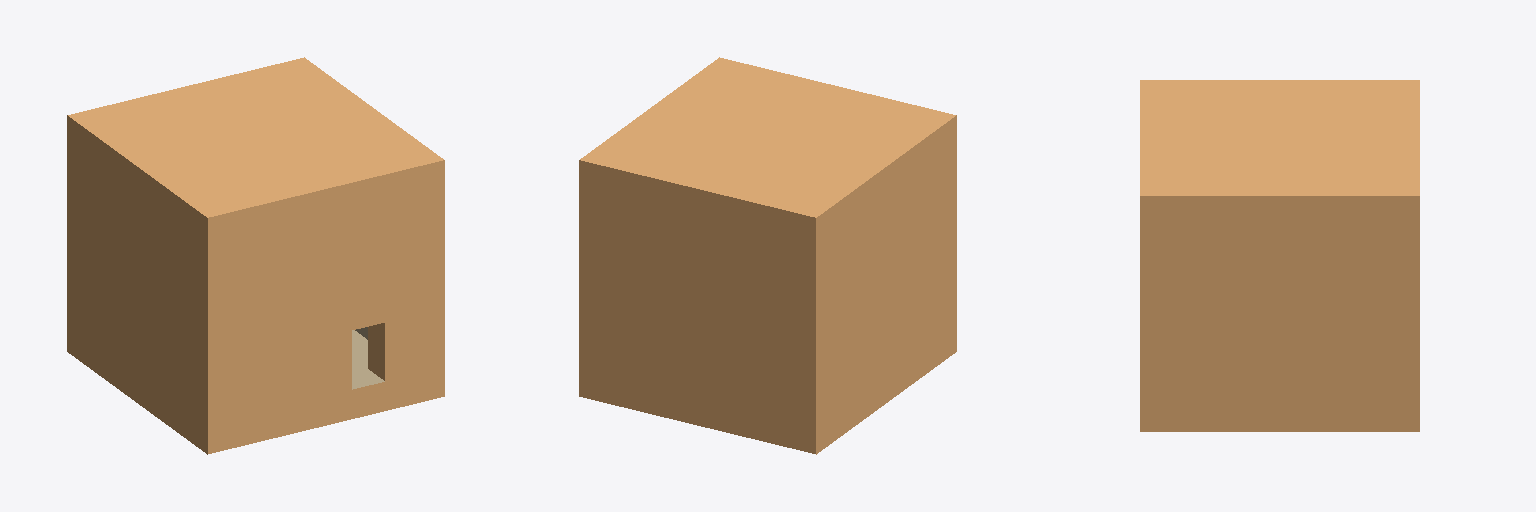
Rendered from building.obj.
3 views of the same model, side by side, from view 1: azimuth 30°, elevation 25°; view 2: azimuth 150°, elevation 25°; view 3: azimuth 270°, elevation 25° (orthographic).
Parts seen in each view (by area): view 1: world_geometry_world_geometry_MESH; view 2: world_geometry_world_geometry_MESH; view 3: world_geometry_world_geometry_MESH.
Boxes of the visible parts, x1,y1,x2,y2 form: world_geometry_world_geometry_MESH: [67, 57, 444, 454]; world_geometry_world_geometry_MESH: [579, 57, 956, 454]; world_geometry_world_geometry_MESH: [1140, 80, 1419, 431].
Bounding box in the file's own units: 1.07 × 1.02 × 1.1.